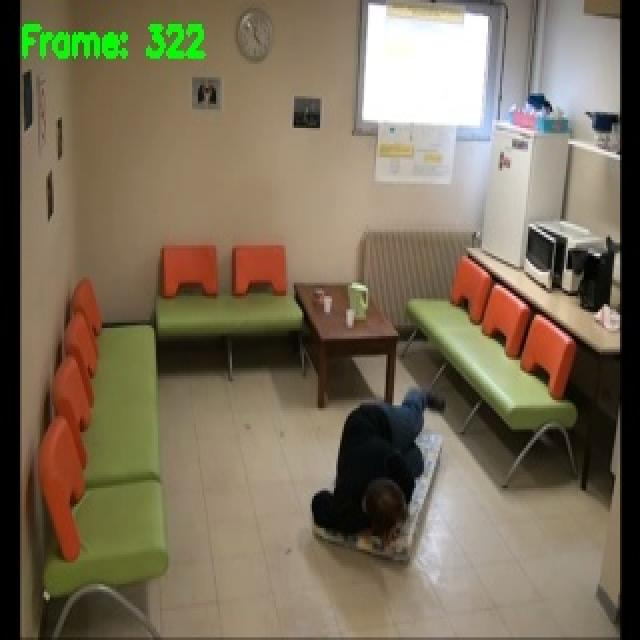Fall-Detected: (317, 382, 452, 552)
